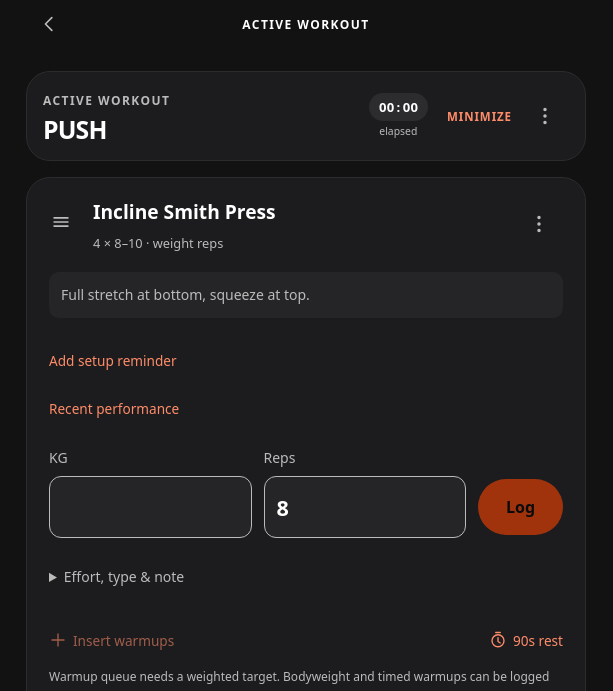
Test: shows load and reps and logs an unmatched starter movement instead of a tracking warning
This screenshot has width=613, height=691.
Type "40" into the number field labelled "KG" at [150, 507], box [49, 476, 252, 538]
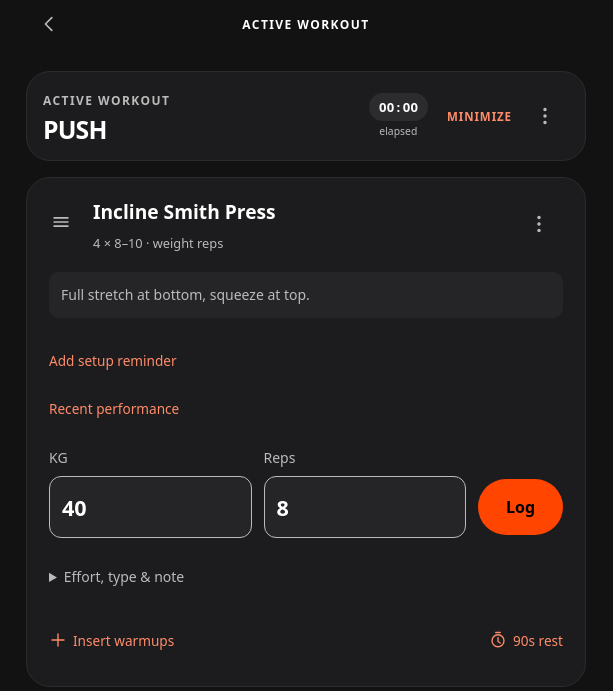
Replace the text in the number field labelled "Reps" with "10" at [365, 507], box [264, 476, 466, 538]
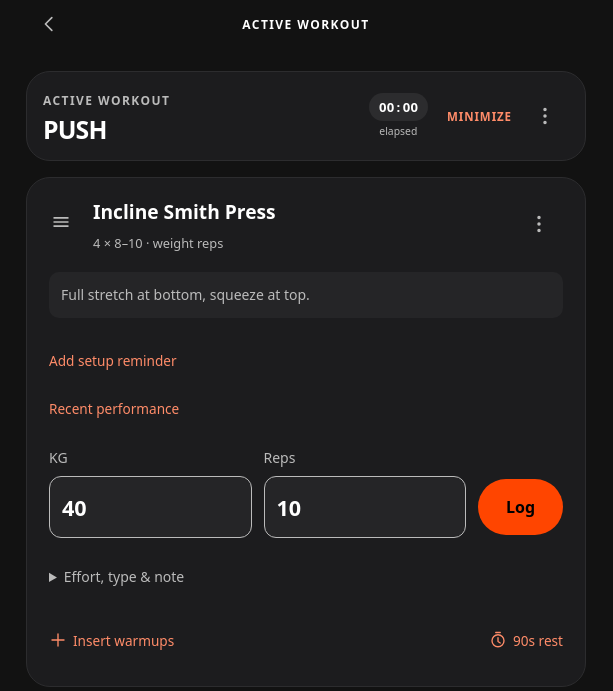
Click the button "Log" at [520, 507], box [478, 479, 563, 535]
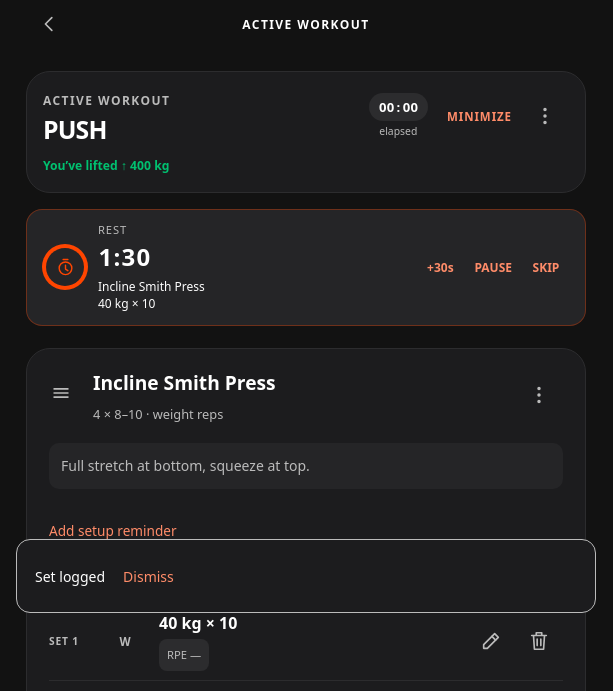
Expected: the text "40 kg × 10" is shown, [159, 612, 237, 634]
